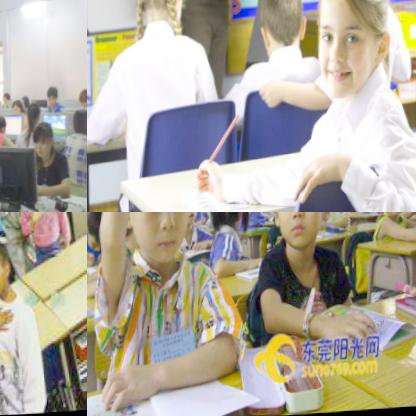head: (315, 0, 394, 100), (114, 212, 200, 263), (259, 0, 310, 56), (270, 212, 331, 251), (135, 0, 189, 32), (0, 237, 19, 304), (87, 212, 115, 253), (32, 123, 57, 160), (209, 212, 246, 229), (71, 107, 87, 141), (46, 86, 62, 110), (28, 104, 42, 130), (77, 86, 87, 114), (20, 96, 34, 113), (0, 114, 9, 139), (3, 92, 15, 109), (13, 101, 25, 118), (182, 212, 198, 223)
